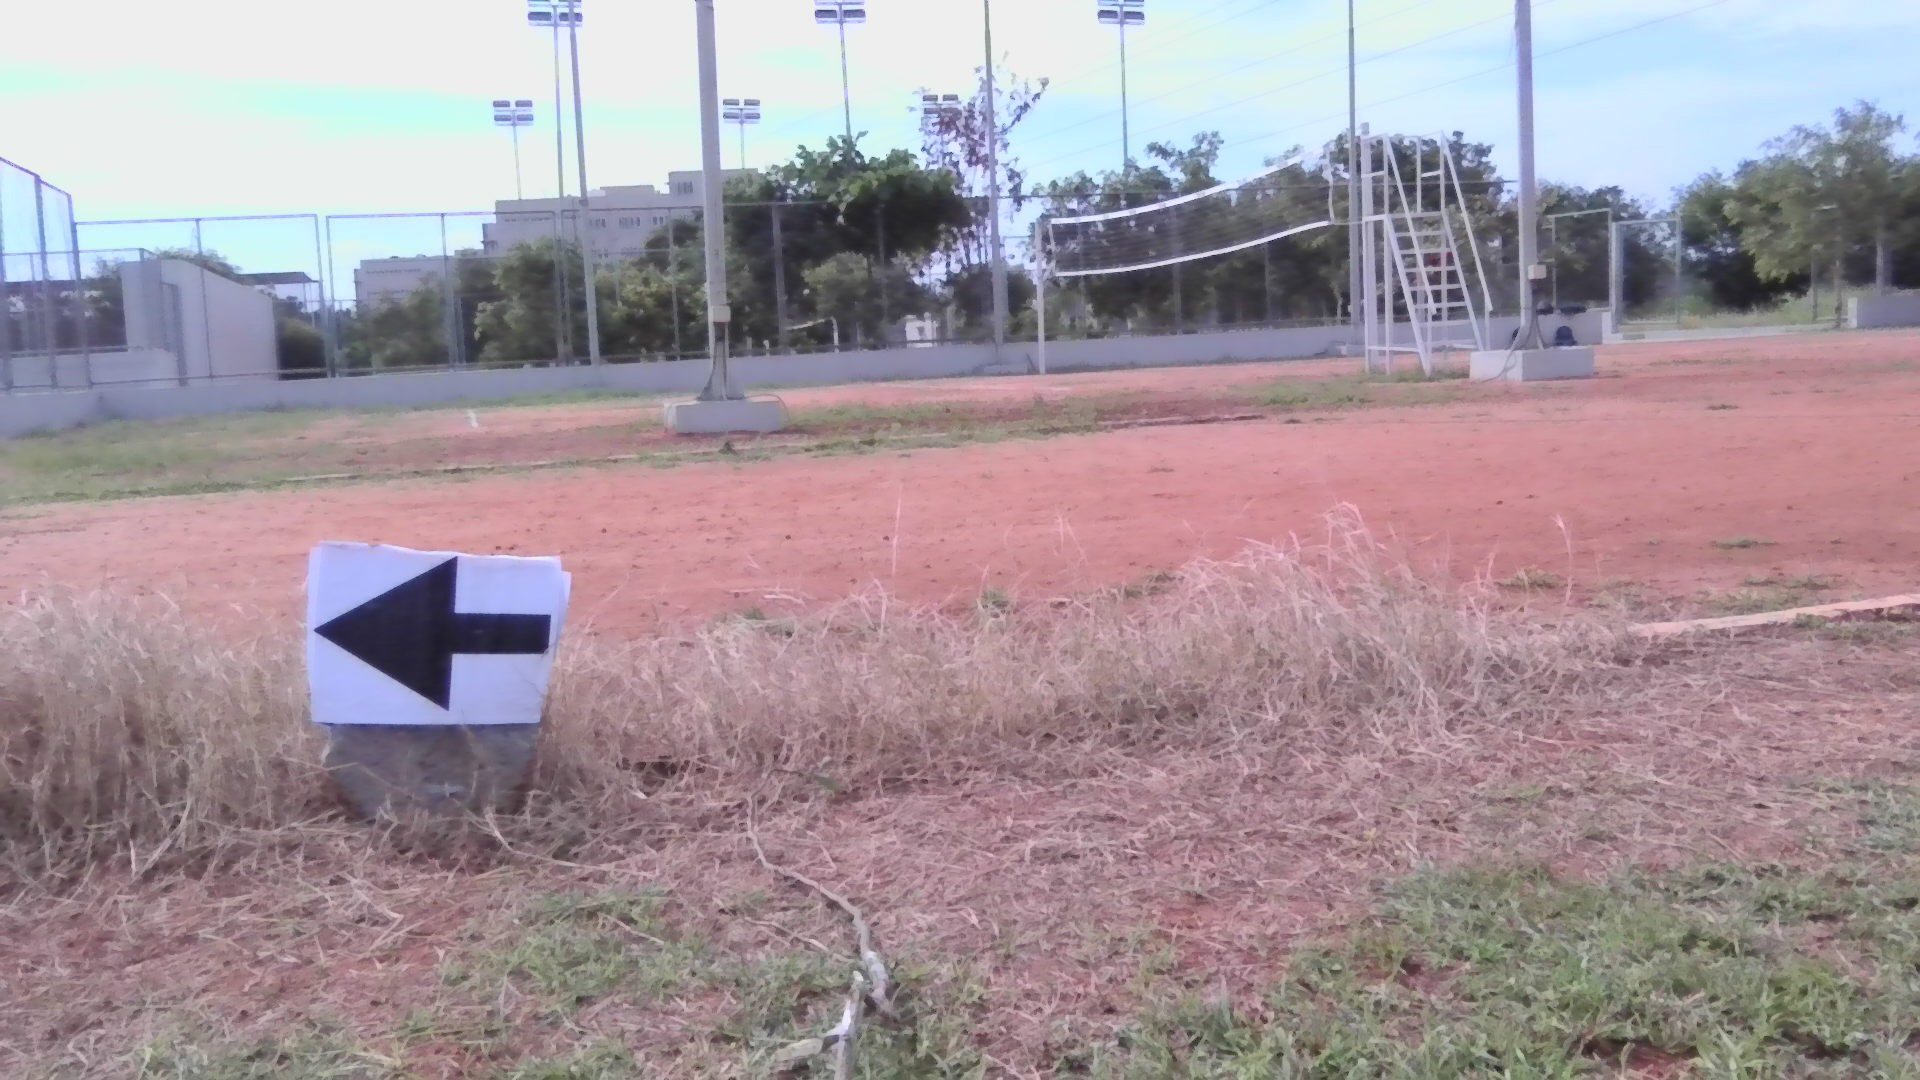leftDir: (315, 549, 558, 731)
